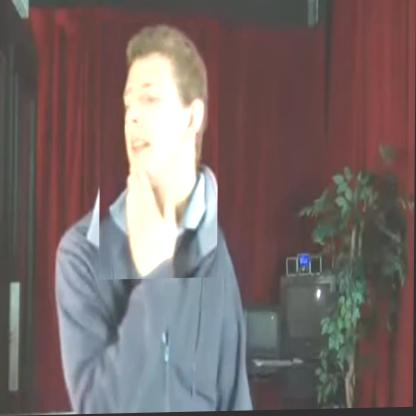ThankYou: (99, 21, 219, 280)
